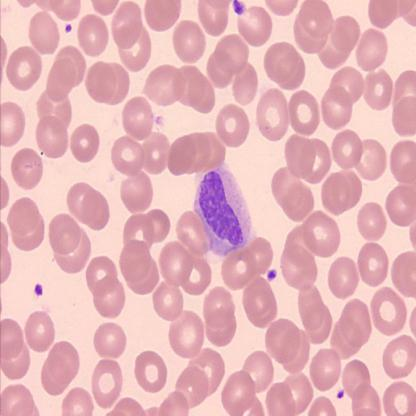Metamyelocyte: (192, 161, 253, 256)
